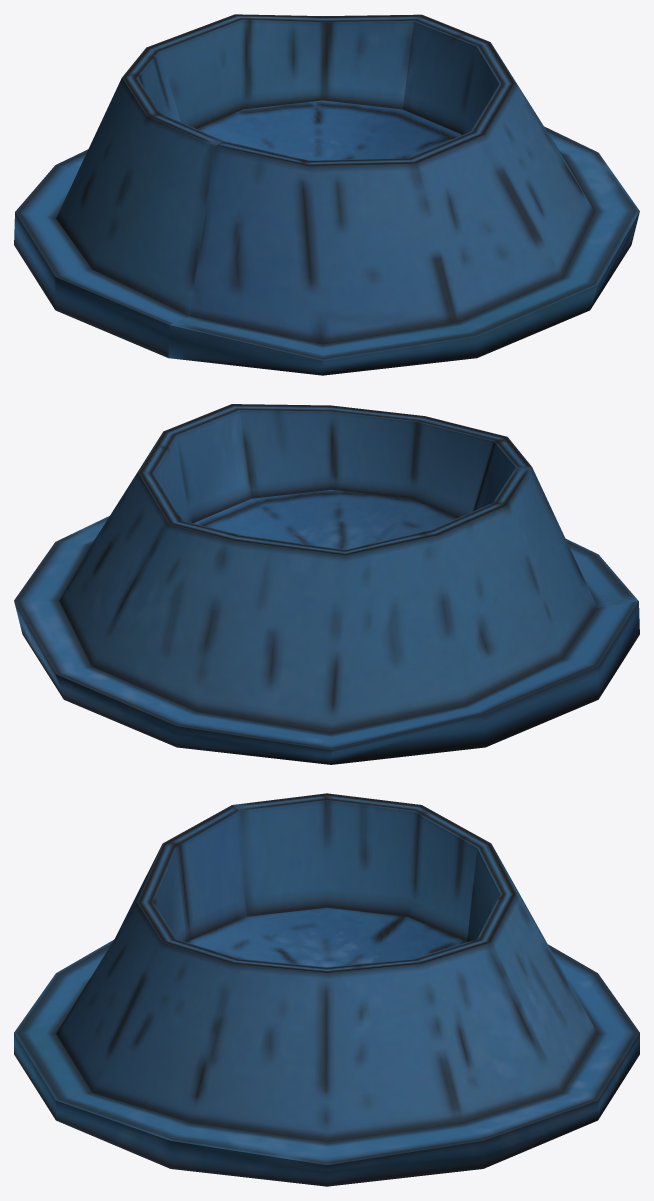
Rendered from dog_bowl.fbx.
3 views of the same model, one above another, from view 1: azimuth 30°, elevation 25°; view 2: azimuth 150°, elevation 25°; view 3: azimuth 270°, elevation 25° (orthographic).
Visible parts, largest first — view 1: dog bowl; view 2: dog bowl; view 3: dog bowl.
Part boxes in pixels (<box>): dog bowl: <box>14,14,639,375</box>; dog bowl: <box>14,404,639,764</box>; dog bowl: <box>14,793,639,1186</box>.
Size of the model in its own units: 38.3 by 11.57 by 37.7.
1 material, 1 textured.
